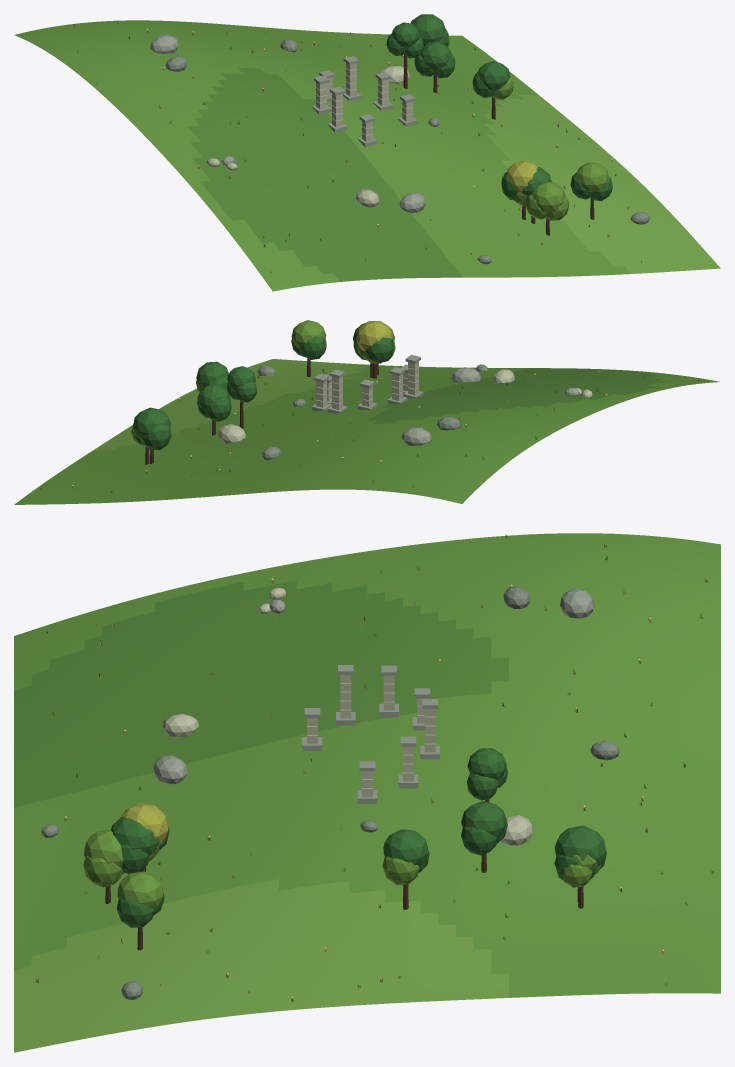
File: Chunk_X-2_Y0_Z1.fbx
The picture shows the model from 3 angles, top to bottom: view 1: azimuth 30°, elevation 25°; view 2: azimuth 150°, elevation 25°; view 3: azimuth 270°, elevation 25°; orthographic projection. The views are drawn at different scales.
Parts seen in each view (by area): view 1: Terrain.011, Canopies.011, HillRuins, Rocks.011, GroundCover.011, Trunks.011; view 2: Terrain.011, Canopies.011, HillRuins, Rocks.011, GroundCover.011, Trunks.011; view 3: Terrain.011, Canopies.011, Rocks.011, HillRuins, GroundCover.011.
Boxes of the visible parts, <box> form: Terrain.011: <box>14,20,720,291</box>; Canopies.011: <box>386,14,612,220</box>; HillRuins: <box>311,56,417,146</box>; Rocks.011: <box>150,34,649,264</box>; GroundCover.011: <box>73,21,641,273</box>; Trunks.011: <box>403,55,594,235</box>; Terrain.011: <box>14,359,719,504</box>; Canopies.011: <box>131,320,395,450</box>; HillRuins: <box>311,354,423,413</box>; Rocks.011: <box>218,364,592,460</box>; GroundCover.011: <box>40,362,699,499</box>; Trunks.011: <box>145,358,378,464</box>; Terrain.011: <box>14,533,720,1052</box>; Canopies.011: <box>83,748,606,927</box>; Rocks.011: <box>41,586,619,999</box>; HillRuins: <box>302,665,439,803</box>; GroundCover.011: <box>35,534,713,1001</box>.
Bounding box in the file's own units: 100 × 35.56 × 100.
